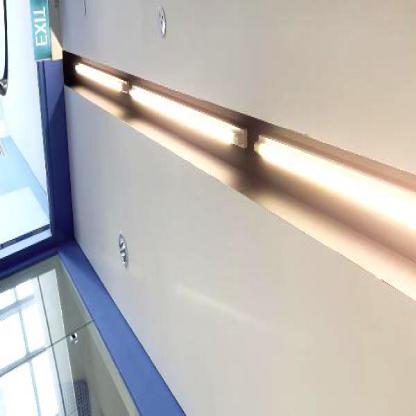light_on: (248, 110, 415, 248), (124, 57, 246, 169), (74, 48, 122, 102)
